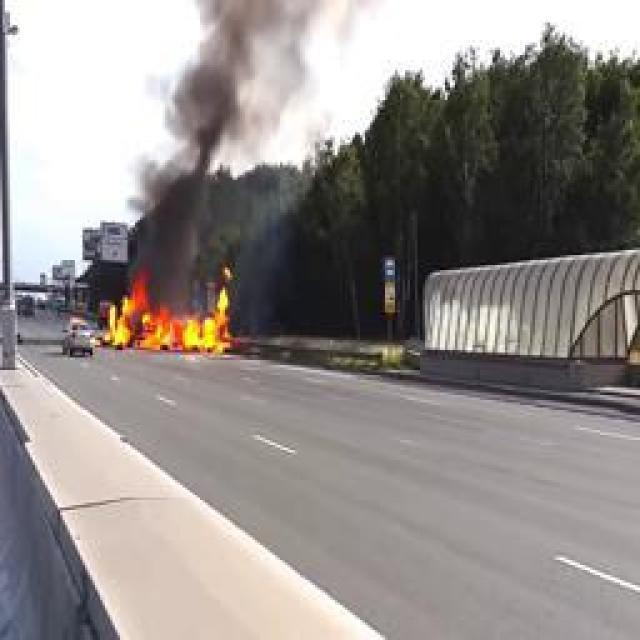Fire: (102, 275, 232, 353)
